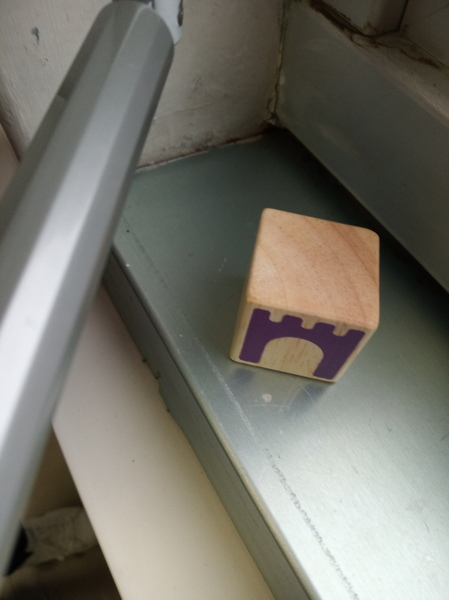violet: (252, 211, 373, 386)
